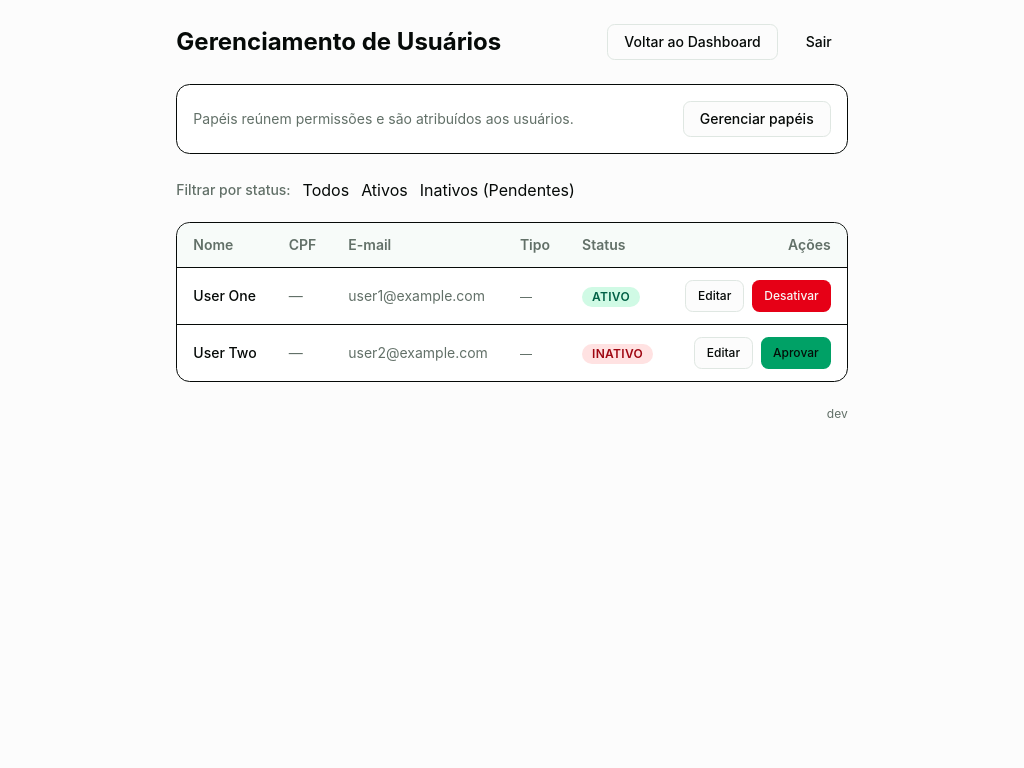
Test: AdminUserDashboard › shows generic alert when mutation error has no detail
Check: the text "User One" is shown, box top-left (177, 268), bottom-right (273, 324)
Click the button "Desativar".
click(792, 296)  # box top-left (752, 280), bottom-right (831, 312)
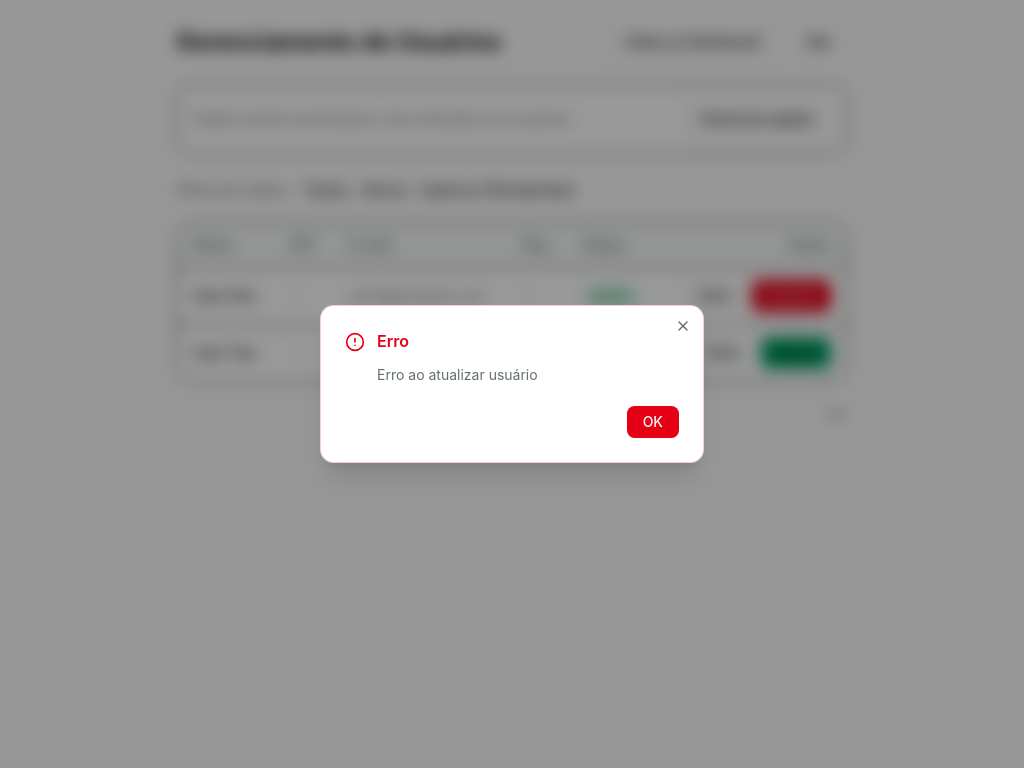
Check: the text "Erro ao atualizar usuário" is shown, box top-left (377, 366), bottom-right (538, 383)
